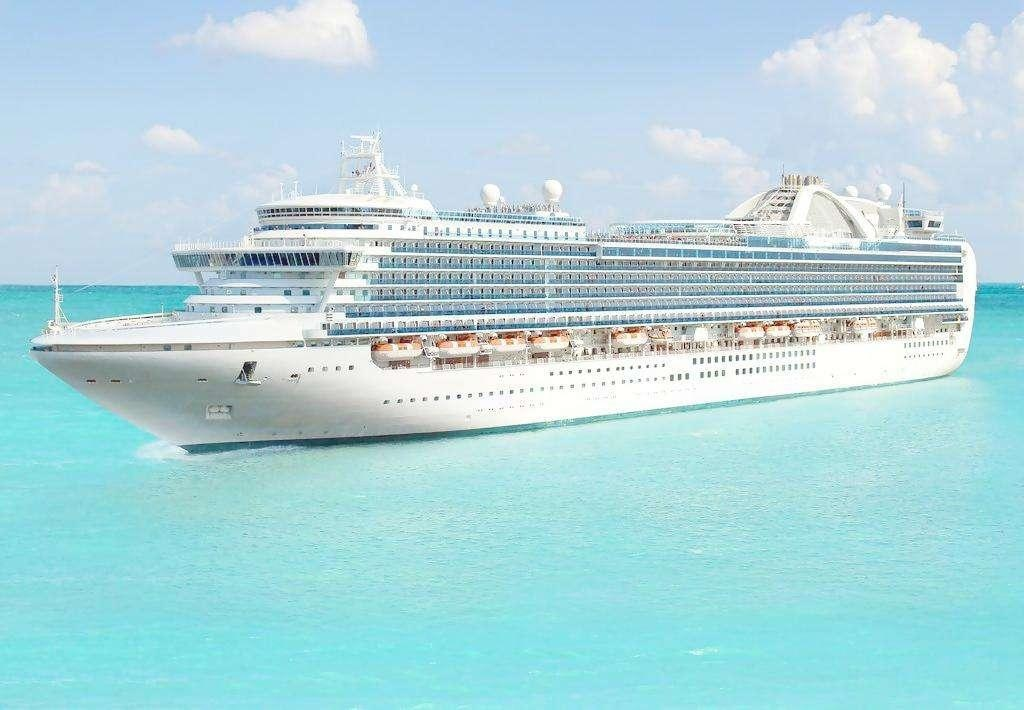youlun: (16, 150, 981, 456)
